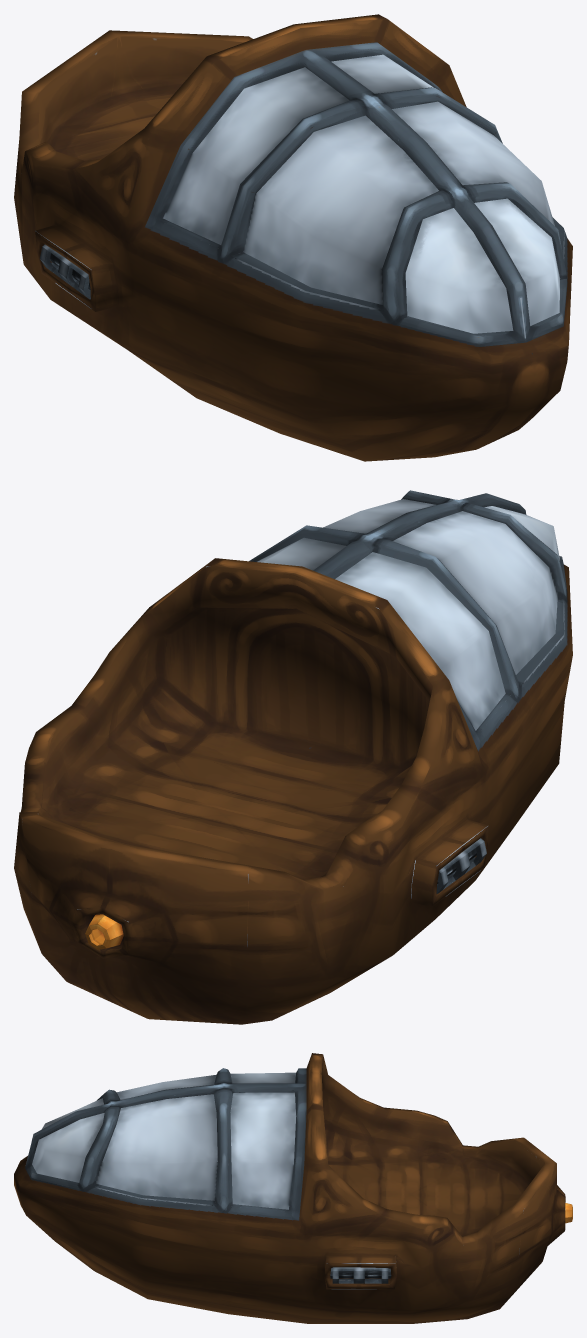
File: Airship-Col.fbx
3 renders of one model, top to bottom at view 1: azimuth 30°, elevation 25°; view 2: azimuth 150°, elevation 25°; view 3: azimuth 270°, elevation 25°, orthographic. The views are drawn at different scales.
Visible parts, largest first — view 1: Airship-Body; view 2: Airship-Body; view 3: Airship-Body.
Part boxes in pixels (x1,y1,x2,y2): Airship-Body: (14, 14, 572, 461); Airship-Body: (14, 490, 572, 1024); Airship-Body: (14, 1053, 572, 1323).
Bounding box in the file's own units: 2.81 × 2.35 × 5.27.
